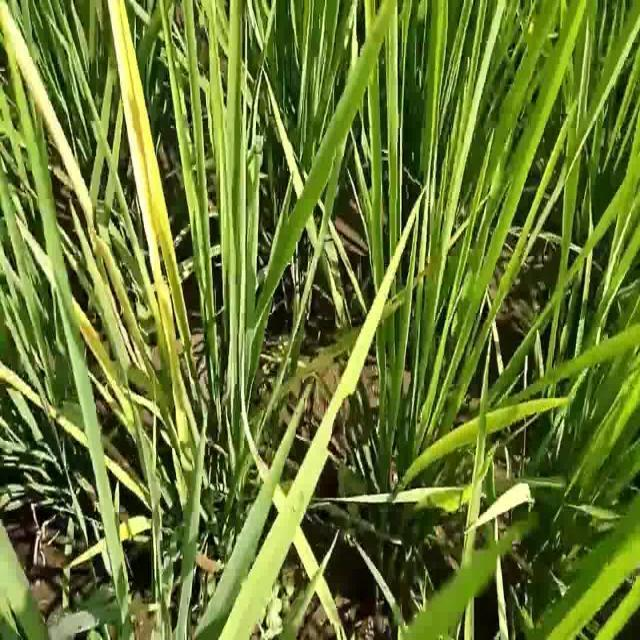Rice Tungro: (103, 1, 185, 312), (1, 3, 97, 233)
